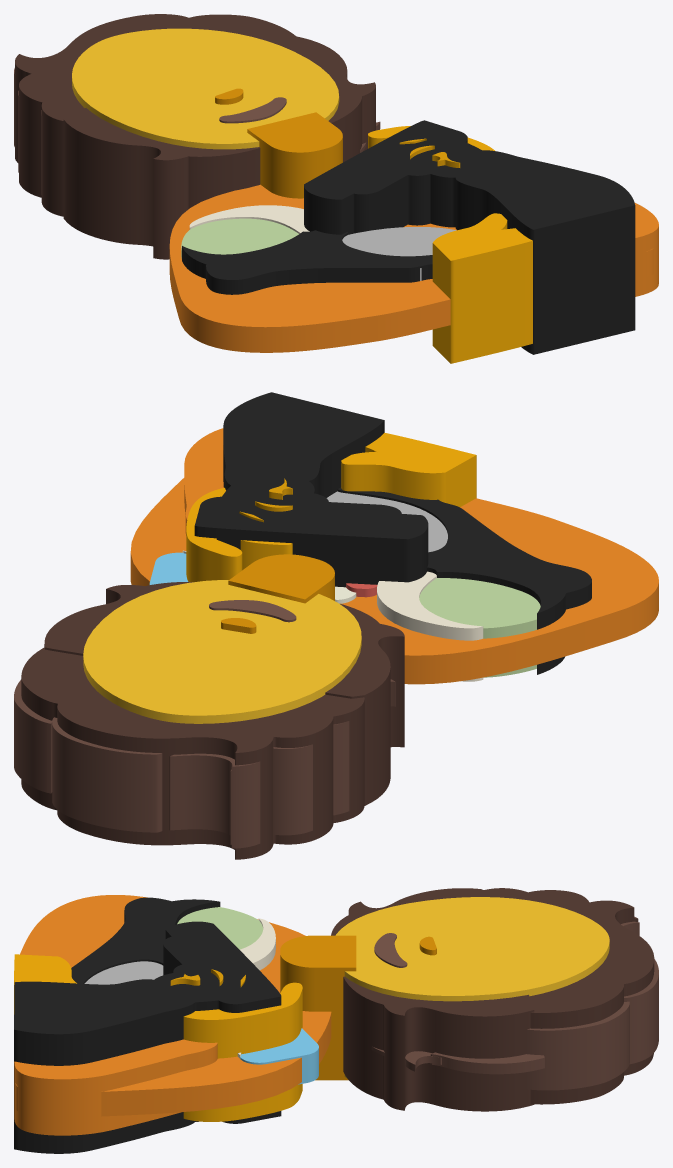
The model's file is emoji_u1f9d1_200d_1f37c.glb.
The picture shows the model from 3 angles, top to bottom: view 1: azimuth 30°, elevation 25°; view 2: azimuth 150°, elevation 25°; view 3: azimuth 270°, elevation 25°; orthographic projection. The views are drawn at different scales.
Visible parts, largest first — view 1: emoji_u1f9d1_200d_1f37c; view 2: emoji_u1f9d1_200d_1f37c; view 3: emoji_u1f9d1_200d_1f37c.
Boxes of the visible parts, box(x1,y1,x2,y2) form: emoji_u1f9d1_200d_1f37c: box(14, 14, 658, 363); emoji_u1f9d1_200d_1f37c: box(14, 392, 658, 859); emoji_u1f9d1_200d_1f37c: box(14, 888, 658, 1153).
Bounding box in the file's own units: 0.0244 × 0.0074 × 0.0332.
